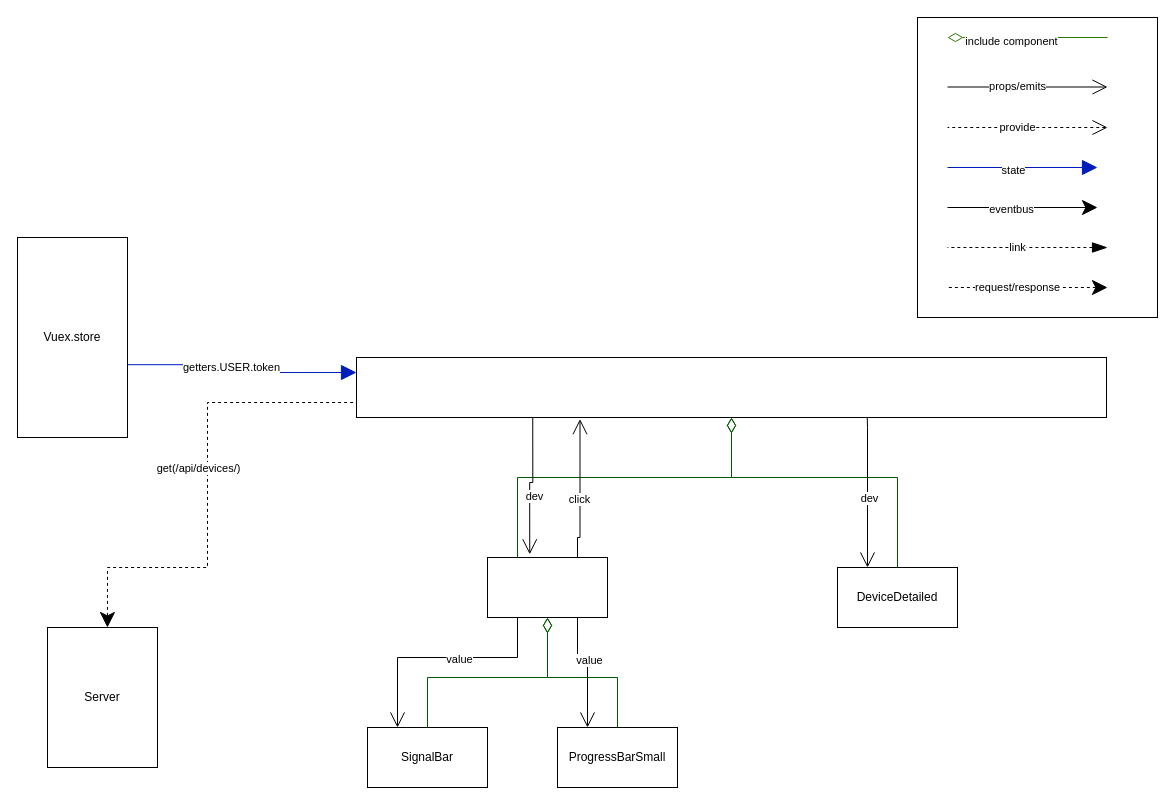
Some shapes in this 1175 by 805 pixel diagram are drawn without their labels. Here are the shapes that lost their labels. From the top down, the centre of each, then its label:
At point (731, 387): "BasicPage".
At point (547, 587): "DeviceInMainList".
